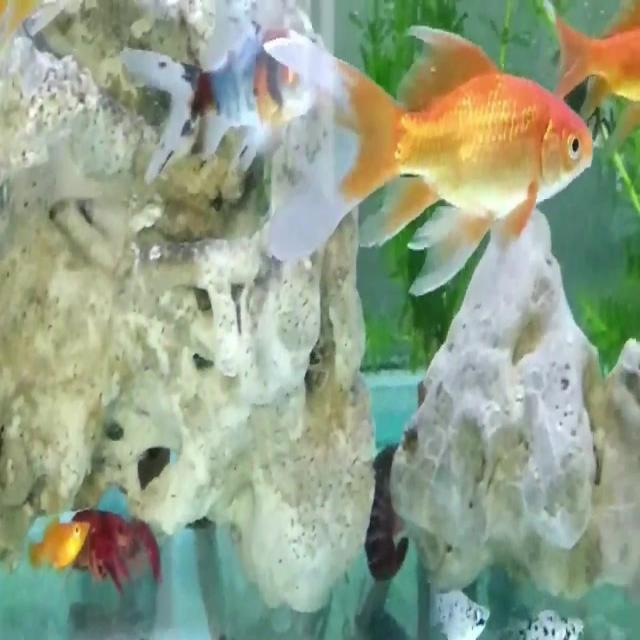GoldFish: (250, 22, 598, 302)
